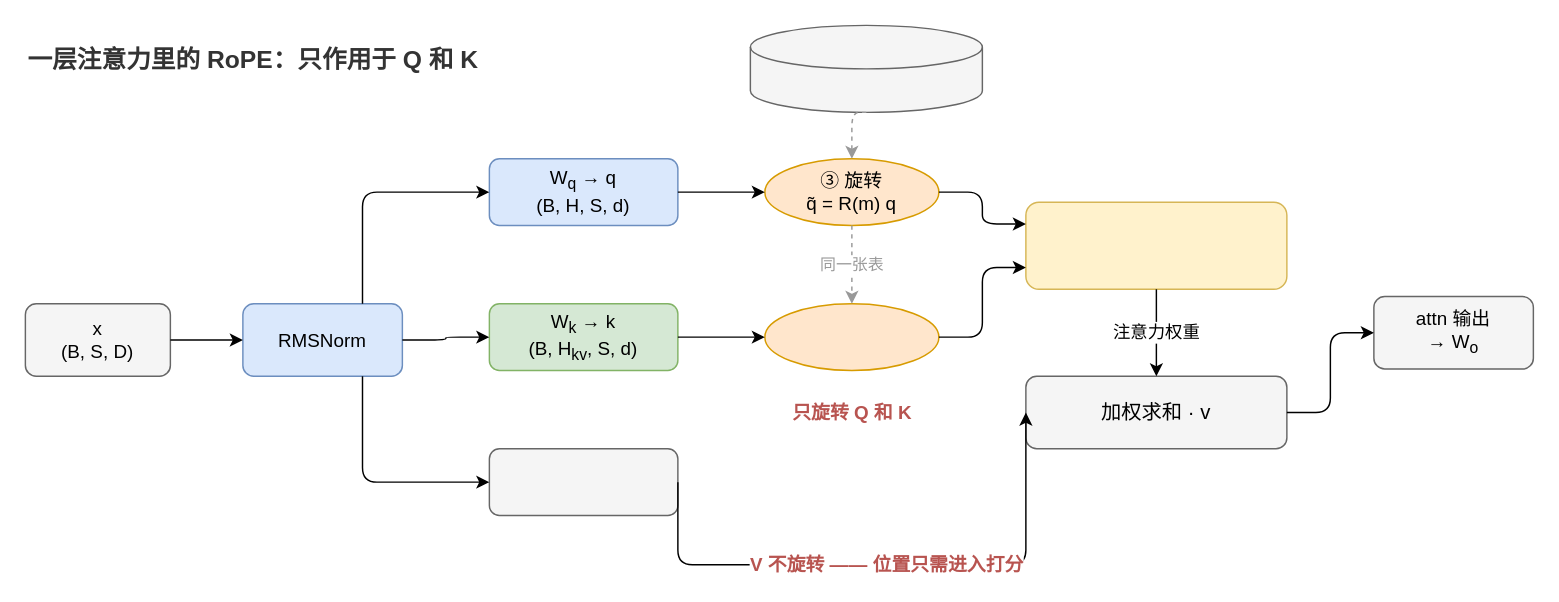
This 1559x602 diagram has some shape labels left out. Here are the shapes that lost their labels. From the top down, the centre of each, then its label:
At [865,68]: "cos / sin 表 (S, d) ① 转速 × ② 位置，预计算缓存".
At [1155,245]: "打分 softmax(q̃·k̃ T / √d) ④ 只依赖 n − m".
At [851,336]: "③ 旋转 k̃ = R(n) k".
At [583,481]: "W v → v (B, H kv , S, d)".
